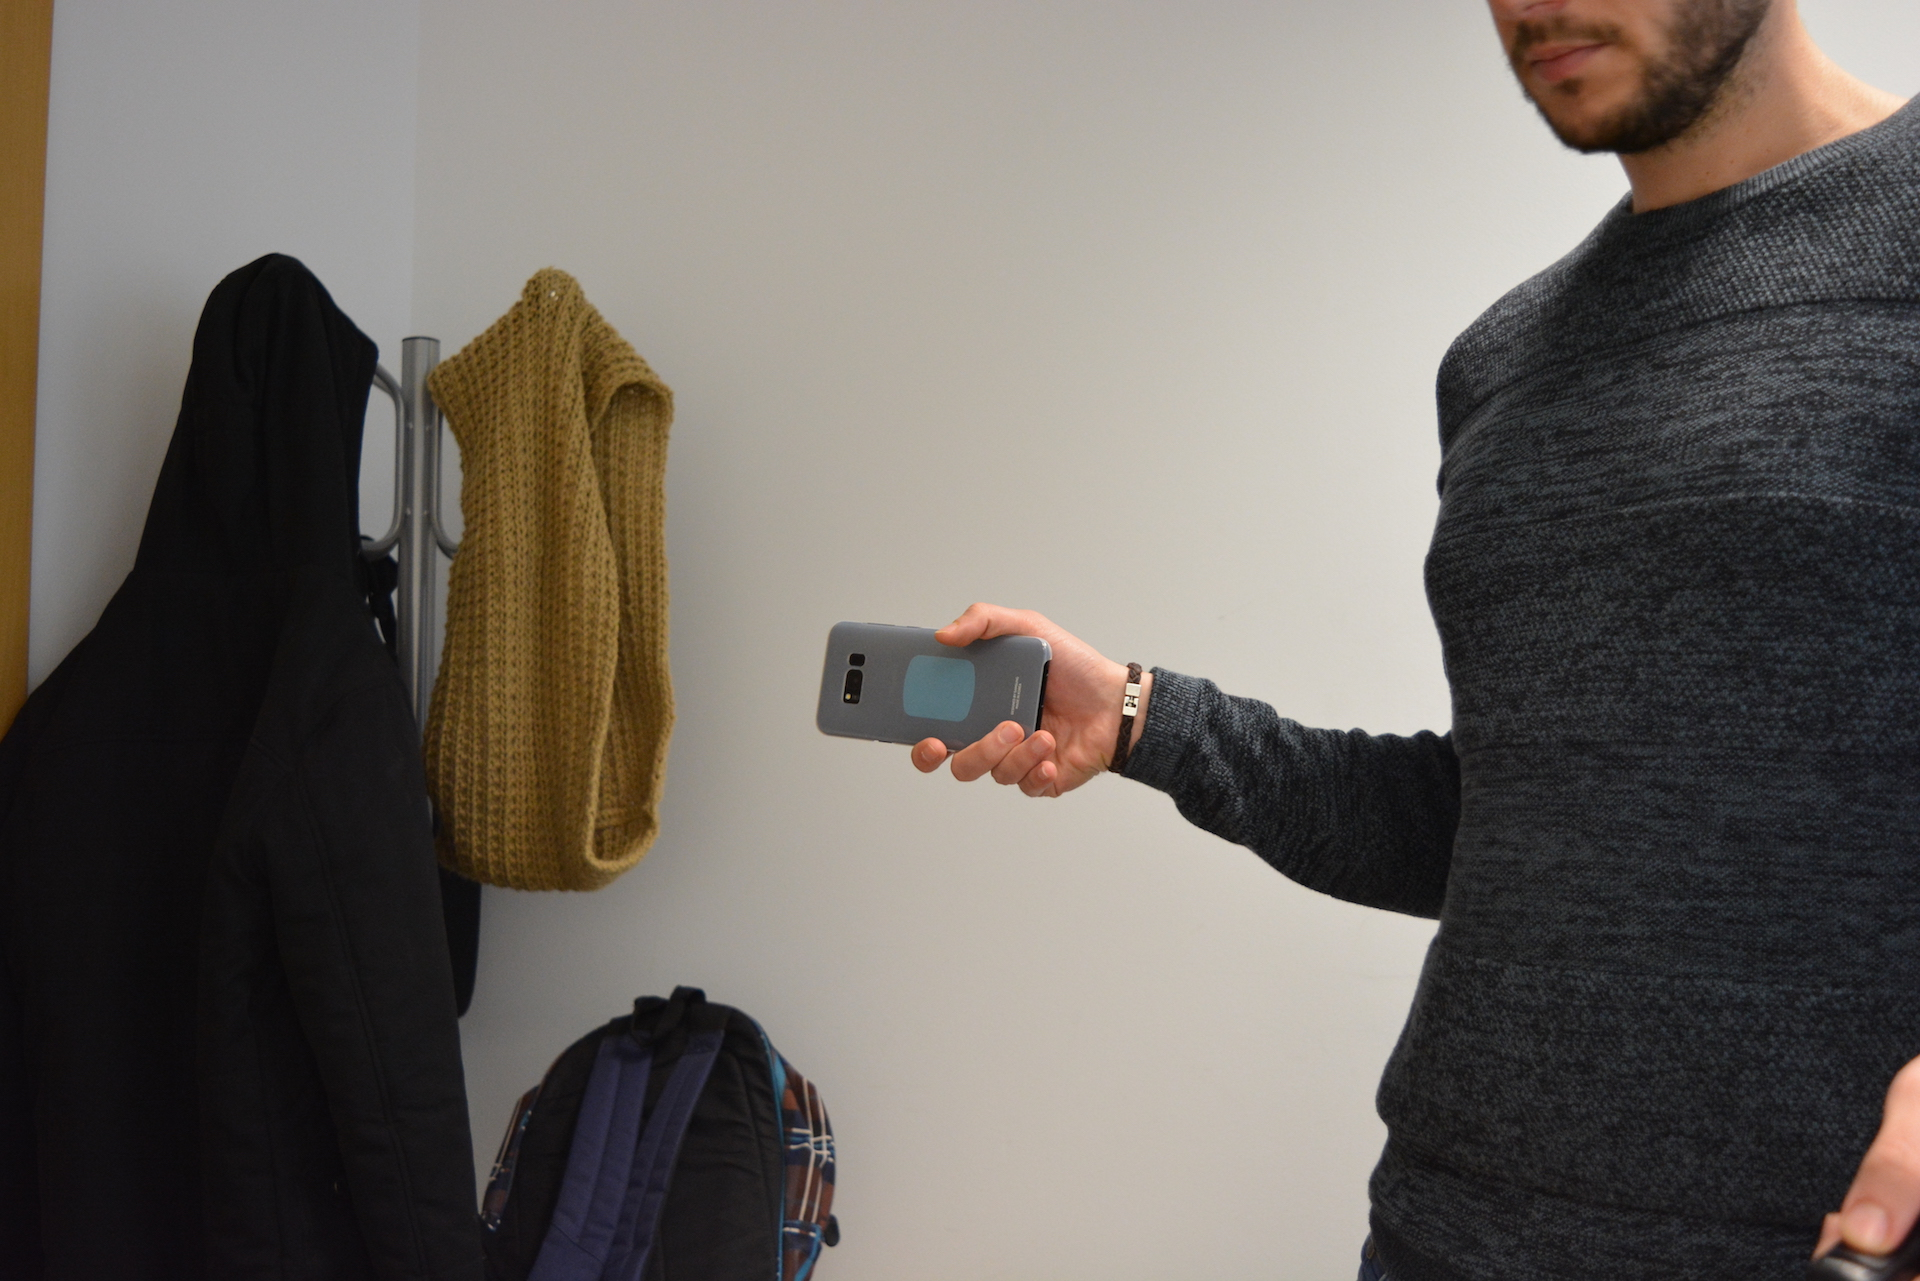smartphone: (813, 620, 1054, 755)
